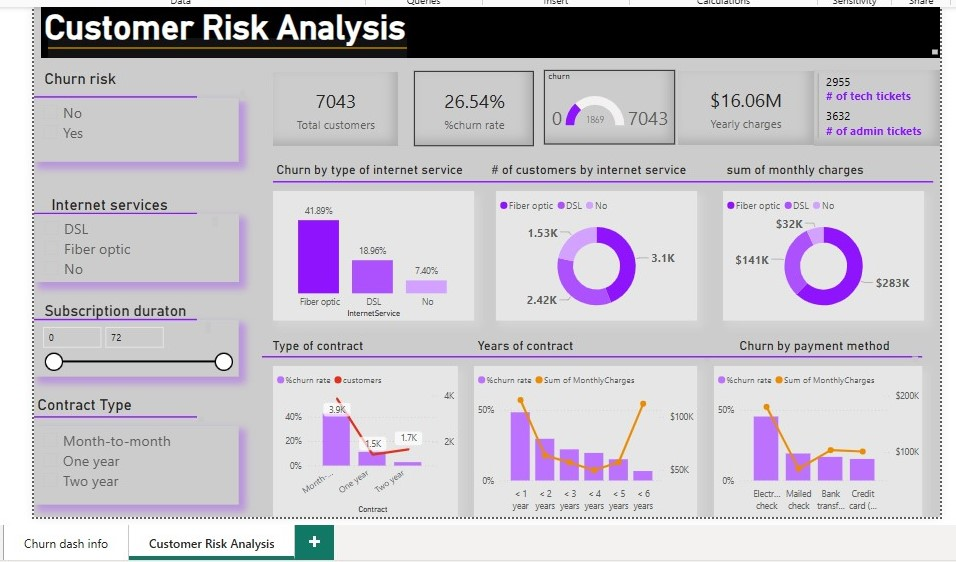

This screenshot's page, from the dashboard's own definition file:
{"tool":"powerbi","page":{"name":"Customer Risk Analysis","canvas":[1280,720],"ordinal":1},"visuals":[{"type":"textbox","title":"Customer Risk Analysis","box":[9.9,0,1270.6,72],"z":0},{"type":"shape","box":[19.8,43.8,506.8,28.2],"z":1000},{"type":"card","fields":{"Values":["CountNonNull(churn.customerID)"]},"box":[337.5,91.6,177.5,104.7],"z":2000},{"type":"gauge","title":"churn","fields":{"MaxValue":["CountNonNull(churn.customerID)"],"Y":["churn.Count of Churn for Yes"]},"box":[720,88.7,184.7,104.7],"z":3000},{"type":"card","fields":{"Values":["Sum(churn.TotalCharges)"]},"box":[909.1,90.2,192,104.7],"z":5000},{"type":"card","fields":{"Values":["baseMeasures.%churn rate"]},"box":[536.7,90.2,168.7,106.2],"z":6000},{"type":"multiRowCard","fields":{"Values":["churn.numTechTickets","churn.numAdminTickets"]},"box":[1101.1,88.7,178.9,107.6],"z":20000},{"type":"slicer","fields":{"Values":["churn.Churn"]},"box":[0,128,289.5,90.2],"z":30001},{"type":"textbox","title":"Churn risk","box":[10.1,89,294,50.4],"z":30002},{"type":"shape","box":[0,114.2,230.1,25.2],"z":30003},{"type":"textbox","title":"Contract Type","box":[0,549.3,245.2,42],"z":30004},{"type":"shape","box":[0,273.8,230.1,35.3],"z":30005},{"type":"slicer","fields":{"Values":["churn.InternetService"]},"box":[1.5,292.7,288.3,96.1],"z":30006},{"type":"slicer","fields":{"Values":["churn - unpivot groups.tenure"]},"box":[0,442.2,289.5,80],"z":30007},{"type":"shape","box":[0,431.7,230.1,18.5],"z":30008},{"type":"textbox","title":"Years of contract","box":[621.8,467.4,337.8,39.3],"z":30009},{"type":"textbox","title":"Subscription duraton","box":[10,416.5,245.2,50.4],"z":30010},{"type":"shape","box":[0,566.1,230.1,25.2],"z":30011},{"type":"slicer","fields":{"Values":["churn.Contract"]},"box":[0,591.3,288.9,110.9],"z":30012},{"type":"clusteredColumnChart","title":"Churn by type of internet service","fields":{"Category":["churn.InternetService"],"Y":["churn.churn rate %"]},"box":[337.8,259.2,284,183.5],"z":30013},{"type":"donutChart","title":"# of customers by internet service","fields":{"Y":["CountNonNull(churn.customerID)"],"Category":["churn.InternetService"]},"box":[652.4,259.2,284,183.5],"z":30014},{"type":"donutChart","title":"sum of monthly charges by internet service","fields":{"Category":["churn.InternetService"],"Y":["Sum(churn.MonthlyCharges)"]},"box":[972.7,259.2,284,183.5],"z":30015},{"type":"textbox","title":"Internet services","box":[20.1,267,245.2,50.4],"z":30017},{"type":"shape","box":[337.8,234.4,932,24.8],"z":30019},{"type":"textbox","title":"# of customers by internet service","box":[640.7,218.4,295.6,48.1],"z":30020},{"type":"textbox","title":"sum of monthly charges","box":[972.7,218.4,284,48.1],"z":30021},{"type":"shape","box":[321.8,482,932,24.8],"z":30022},{"type":"textbox","title":"Churn by type of internet service","box":[337.8,218.4,295.6,51],"z":30025},{"type":"textbox","title":"Type of contract","box":[332,467.4,295.6,51],"z":30026},{"type":"lineClusteredColumnComboChart","fields":{"Y":["baseMeasures.%churn rate"],"Category":["churn.Loyalty"],"Y2":["Sum(churn.MonthlyCharges)"]},"box":[621.8,506.8,314.5,212.6],"z":30027},{"type":"lineClusteredColumnComboChart","fields":{"Category":["churn.PaymentMethod"],"Y":["baseMeasures.%churn rate"],"Y2":["Sum(churn.MonthlyCharges)"]},"box":[959.6,506.8,294.2,212.6],"z":30028},{"type":"lineClusteredColumnComboChart","fields":{"Category":["churn.Contract"],"Y":["baseMeasures.%churn rate"],"Y2":["CountNonNull(churn.customerID)"]},"box":[337.8,506.8,260.7,212.6],"z":30029},{"type":"textbox","title":"Churn by payment method","box":[991.7,467.4,262.1,39.3],"z":30030}]}

Visuals, with their boxes on the page's 1280x720 design canvas (x1, y1, x2, y2). These are canvas units, not pixel positions in the 956x562 screenshot, which may show the page scaled, cropped or inside an application window:
"Customer Risk Analysis" textbox: left=10, top=0, right=1280, bottom=72
shape: left=20, top=44, right=527, bottom=72
card - CountNonNull(churn.customerID): left=338, top=92, right=515, bottom=196
"churn" gauge: left=720, top=89, right=905, bottom=193
card - Sum(churn.TotalCharges): left=909, top=90, right=1101, bottom=195
card - baseMeasures.%churn rate: left=537, top=90, right=705, bottom=196
multiRowCard - churn.numTechTickets x churn.numAdminTickets: left=1101, top=89, right=1280, bottom=196
slicer - churn.Churn: left=0, top=128, right=290, bottom=218
"Churn risk" textbox: left=10, top=89, right=304, bottom=139
shape: left=0, top=114, right=230, bottom=139
"Contract Type" textbox: left=0, top=549, right=245, bottom=591
shape: left=0, top=274, right=230, bottom=309
slicer - churn.InternetService: left=2, top=293, right=290, bottom=389
slicer - churn - unpivot groups.tenure: left=0, top=442, right=290, bottom=522
shape: left=0, top=432, right=230, bottom=450
"Years of contract" textbox: left=622, top=467, right=960, bottom=507
"Subscription duraton" textbox: left=10, top=416, right=255, bottom=467
shape: left=0, top=566, right=230, bottom=591
slicer - churn.Contract: left=0, top=591, right=289, bottom=702
"Churn by type of internet service" clusteredColumnChart: left=338, top=259, right=622, bottom=443
"# of customers by internet service" donutChart: left=652, top=259, right=936, bottom=443
"sum of monthly charges by internet service" donutChart: left=973, top=259, right=1257, bottom=443
"Internet services" textbox: left=20, top=267, right=265, bottom=317
shape: left=338, top=234, right=1270, bottom=259
"# of customers by internet service" textbox: left=641, top=218, right=936, bottom=266
"sum of monthly charges" textbox: left=973, top=218, right=1257, bottom=266
shape: left=322, top=482, right=1254, bottom=507
"Churn by type of internet service" textbox: left=338, top=218, right=633, bottom=269
"Type of contract" textbox: left=332, top=467, right=628, bottom=518
lineClusteredColumnComboChart - baseMeasures.%churn rate x churn.Loyalty: left=622, top=507, right=936, bottom=719
lineClusteredColumnComboChart - churn.PaymentMethod x baseMeasures.%churn rate: left=960, top=507, right=1254, bottom=719
lineClusteredColumnComboChart - churn.Contract x baseMeasures.%churn rate: left=338, top=507, right=598, bottom=719
"Churn by payment method" textbox: left=992, top=467, right=1254, bottom=507
